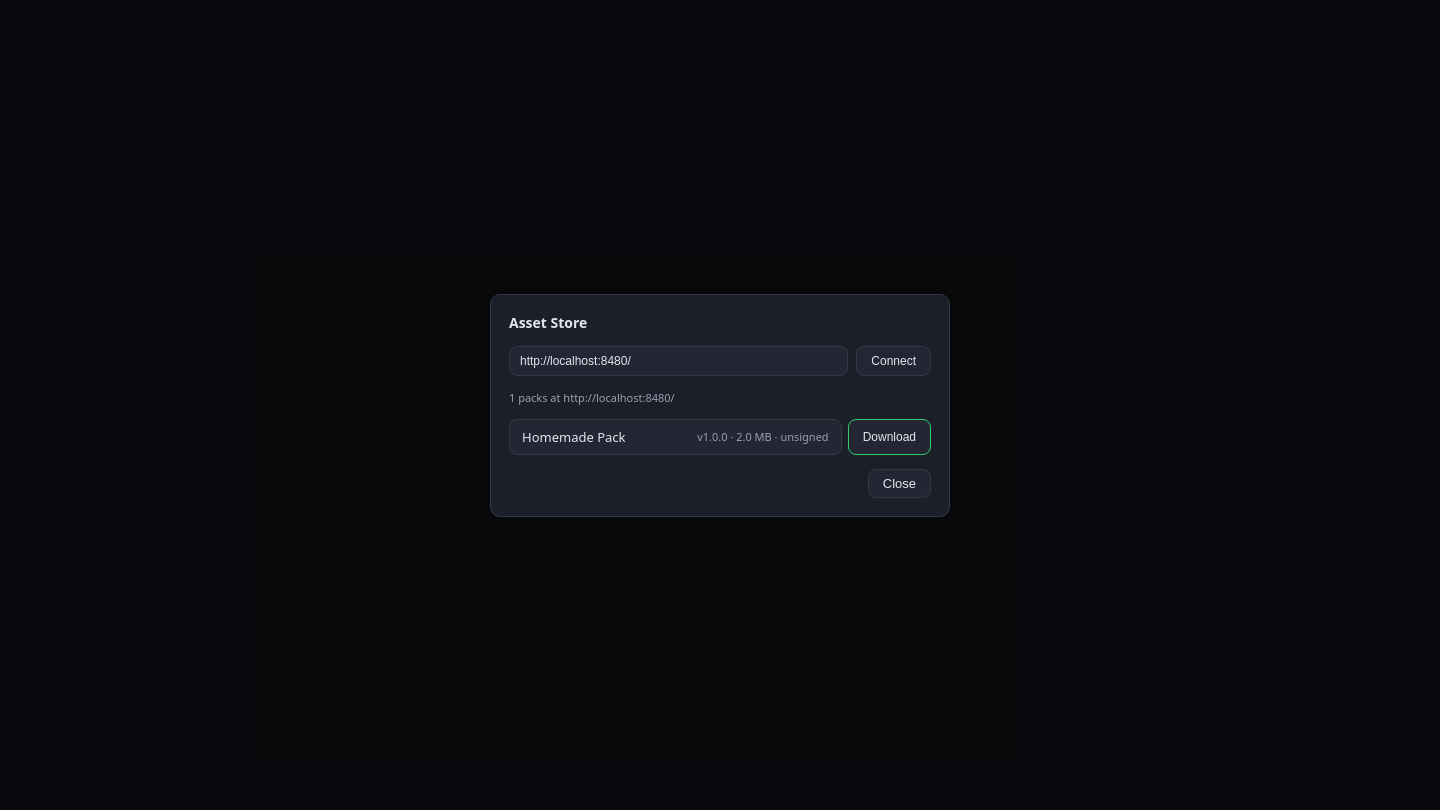
Test case: AssetStore trust flow › asks before installing an unsigned pack, and does not install on cancel
This screenshot has width=1440, height=810.
Click the button "Download": [889, 436] box top-left (848, 418), bottom-right (931, 454)
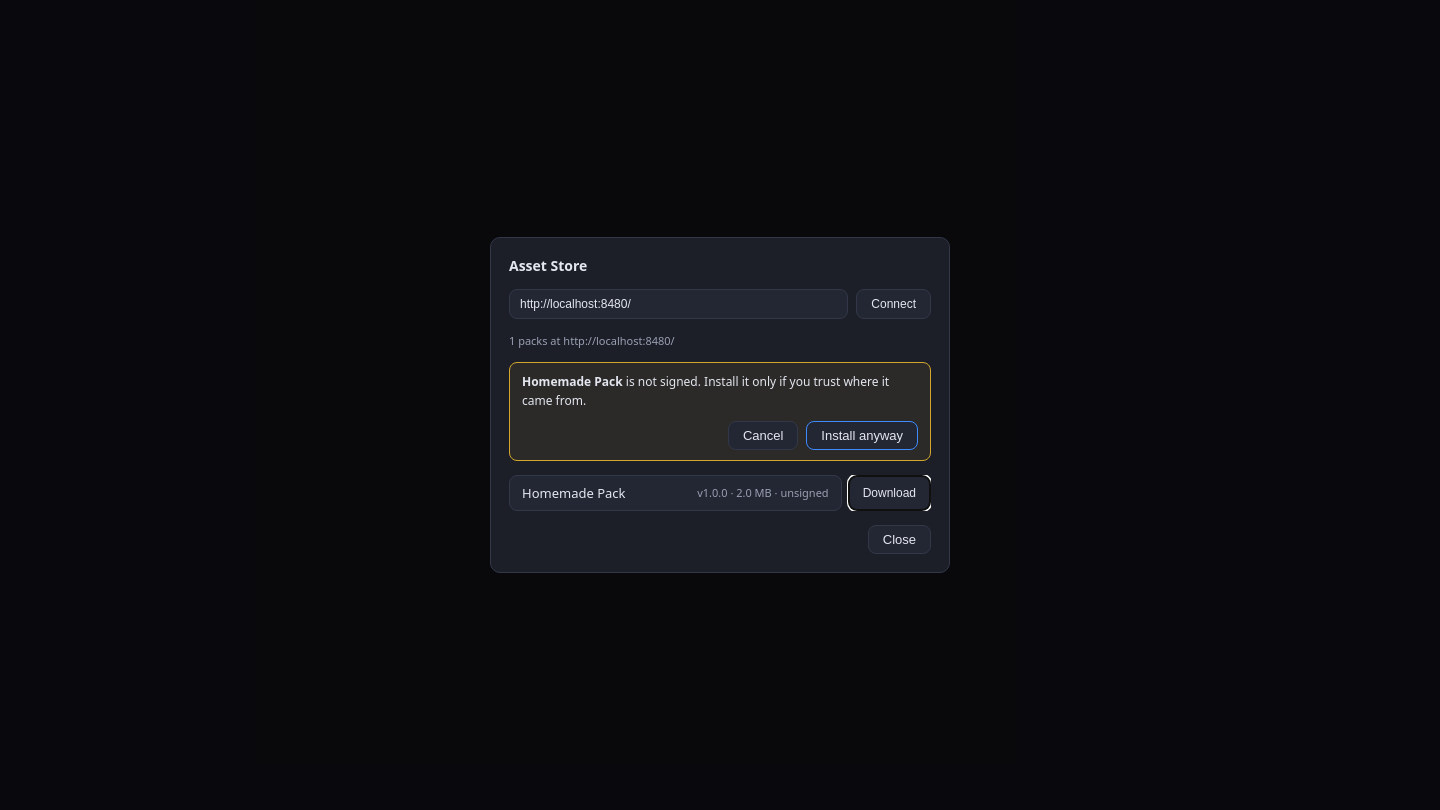
Check: the text "is not signed" is shown, box top-left (626, 373), bottom-right (701, 390)
Click the button "Cancel": [763, 435] box top-left (728, 421), bottom-right (798, 450)
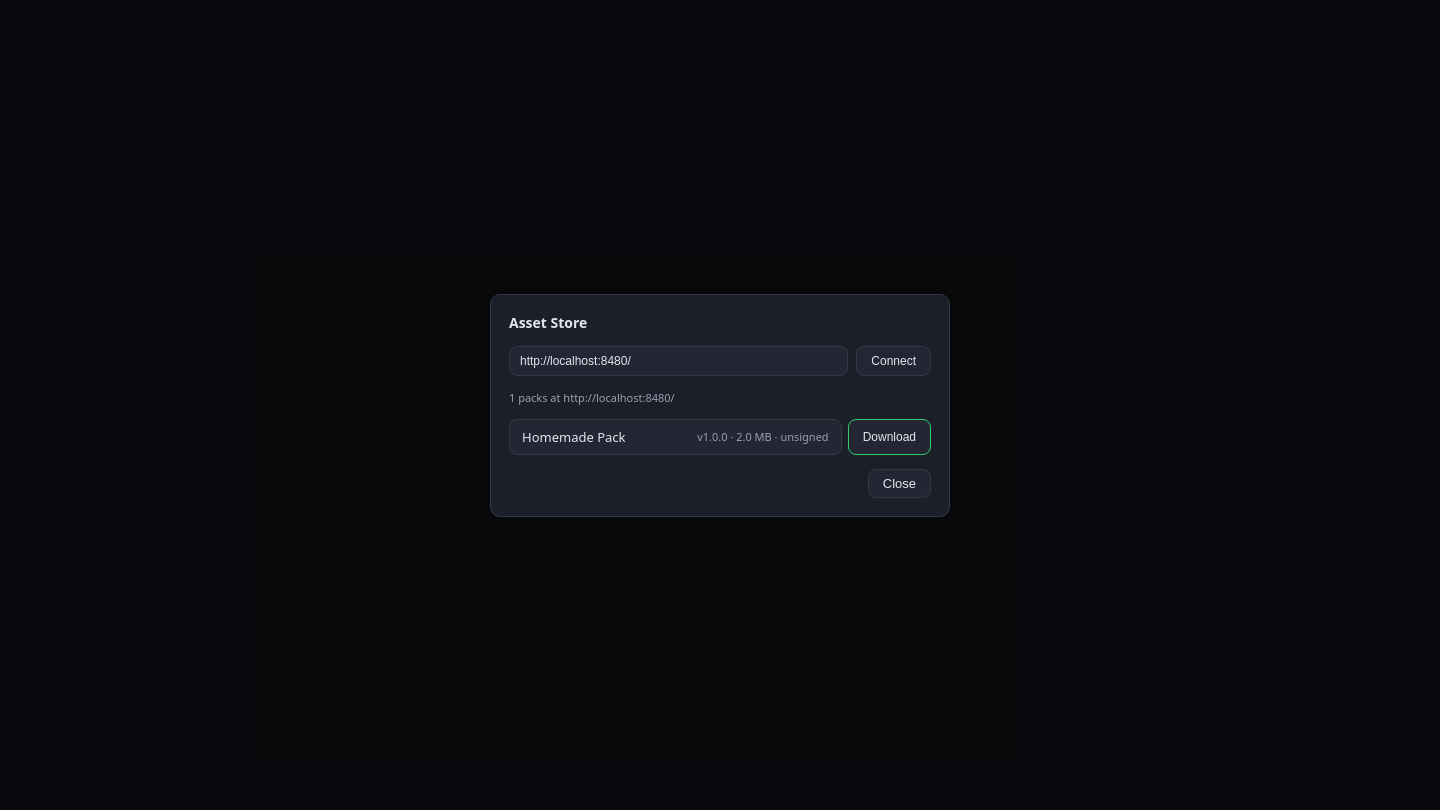
Check: the text "is not signed" is gone
